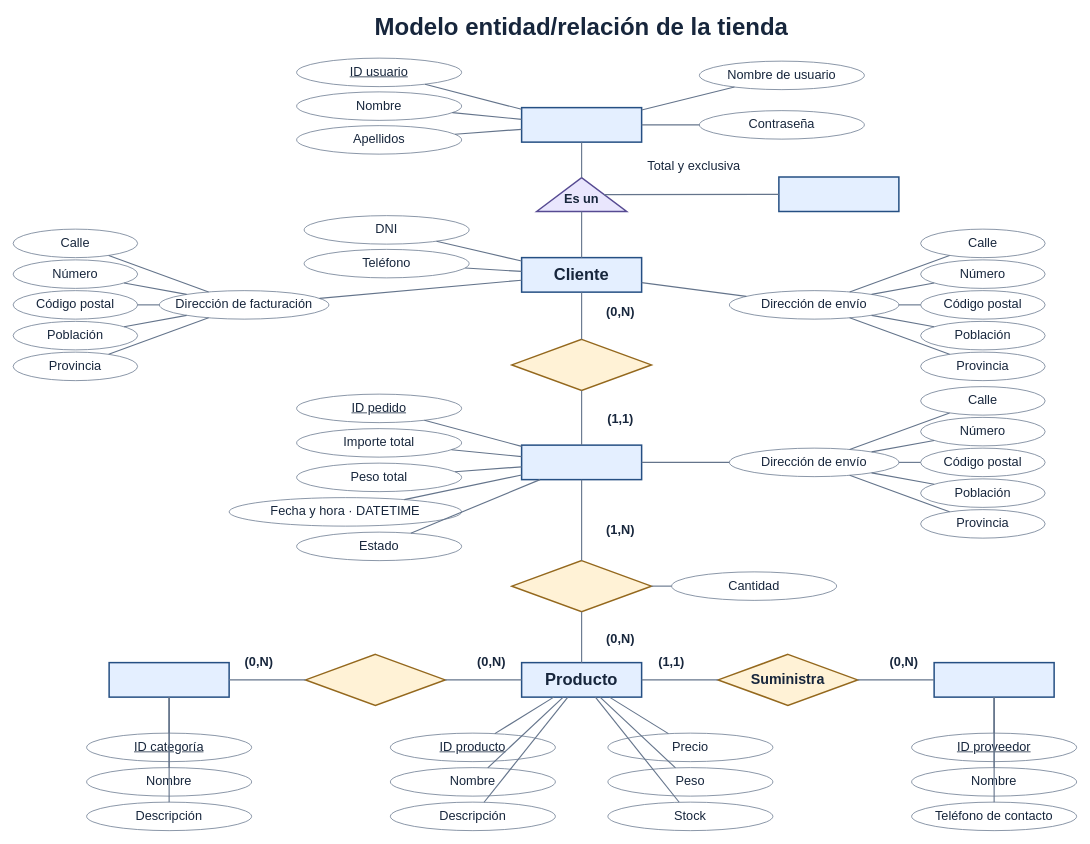
The diagram is 1090 pixels wide and 844 high, and some of its shapes have lost their labels. The shapes that lost their labels are listed below. From the top down, each one's centre as x and y in pixels, then its label:
At (x=581, y=124): "Usuario".
At (x=838, y=194): "Administrador".
At (x=581, y=364): "Realiza".
At (x=581, y=462): "Pedido".
At (x=581, y=586): "Incluye".
At (x=169, y=680): "Categoría".
At (x=375, y=679): "Pertenece a".
At (x=993, y=680): "Proveedor".
